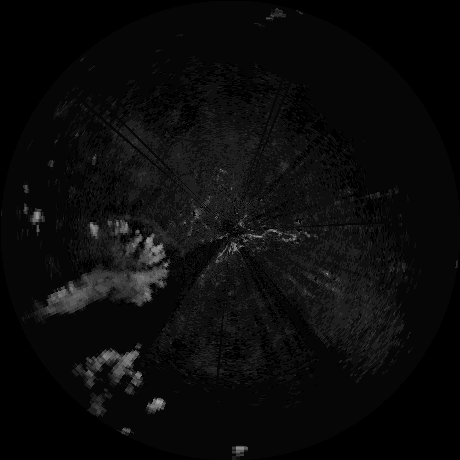frontgust: (127, 213, 183, 256)
